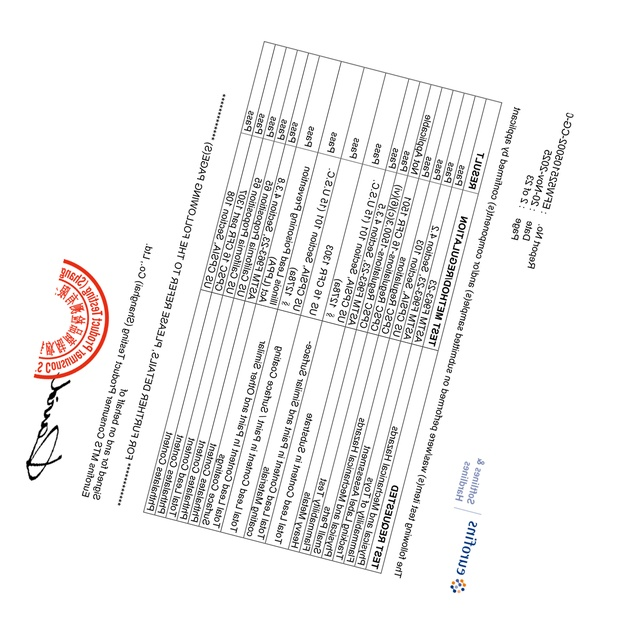eurofins: (448, 518, 480, 596)
